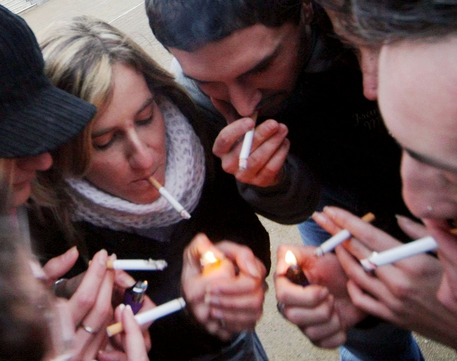not_cigarette: (105, 295, 200, 337), (316, 211, 378, 256), (369, 234, 455, 266), (149, 174, 192, 221), (240, 109, 263, 169), (87, 257, 169, 273)
